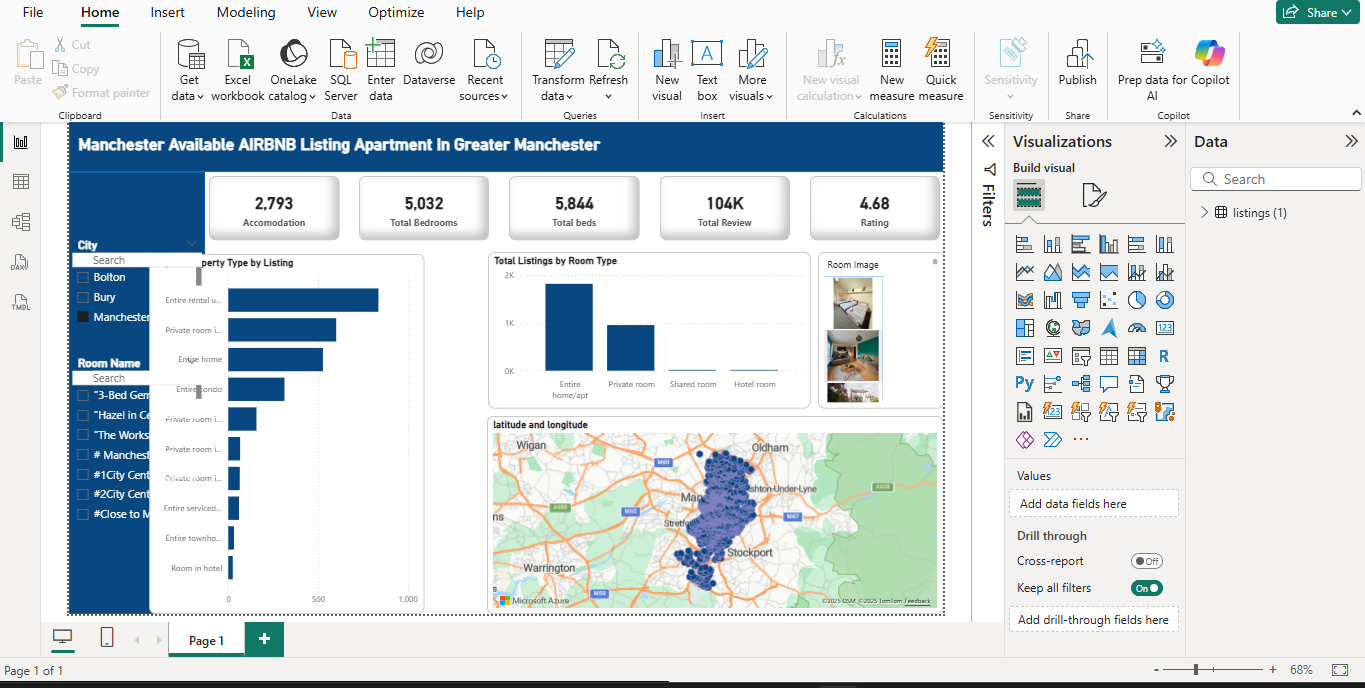

This screenshot's page, from the dashboard's own definition file:
{"tool":"powerbi","page":{"name":"Page 1","canvas":[1280,720],"ordinal":0},"visuals":[{"type":"shape","box":[0,73.2,199.1,646.8],"z":0},{"type":"shape","box":[0,0,1280,73.3],"z":1000},{"type":"clusteredBarChart","title":"Top 10 Property Type by Listing","fields":{"Category":["listings (1).property_type"],"Y":["CountNonNull(listings (1).id)"]},"box":[117.1,192.9,402.9,527.1],"z":2000},{"type":"card","fields":{"Values":["listings (1).Total Bedrooms"]},"box":[424.9,79.5,189.5,94.2],"z":3000},{"type":"card","fields":{"Values":["listings (1).Total beds"]},"box":[644.4,79.5,190.8,94.2],"z":4000},{"type":"slicer","fields":{"Values":["listings (1).name"]},"box":[0,337.5,199.3,254.3],"z":5000},{"type":"card","fields":{"Values":["Avg(listings (1).review_scores_rating)"]},"box":[1084.7,79.5,189.5,94.2],"z":6000},{"type":"card","fields":{"Values":["Sum(listings (1).number_of_reviews)"]},"box":[865.2,79.5,189.5,94.2],"z":7000},{"type":"clusteredColumnChart","title":"Total Listings by Room Type","fields":{"Category":["listings (1).room_type"],"Y":["CountNonNull(listings (1).id)"]},"box":[612.6,190.8,472,228.7],"z":8000},{"type":"slicer","fields":{"Values":["listings (1).neighbourhood_group_cleansed"]},"box":[0,165.1,199.3,140.6],"z":9000},{"type":"azureMap","fields":{"Y":["listings (1).latitude"],"X":["listings (1).longitude"]},"box":[612,430,668,290],"z":10000},{"type":"card","fields":{"Values":["listings (1).Accomodation"]},"box":[204.2,79.5,190.8,94.2],"z":11000},{"type":"pivotTable","fields":{"Rows":["listings (1).picture_url"]},"box":[1095.7,190.8,184.6,228.7],"z":12000},{"type":"card","fields":{"Values":["listings (1).Title"]},"box":[0,0,791.1,63.3],"z":13000}]}

Visuals, with their boxes on the page's 1280x720 design canvas (x1, y1, x2, y2). These are canvas units, not pixel positions in the 1365x688 screenshot, which may show the page scaled, cropped or inside an application window:
shape: x1=0, y1=73, x2=199, y2=720
shape: x1=0, y1=0, x2=1280, y2=73
"Top 10 Property Type by Listing" clusteredBarChart: x1=117, y1=193, x2=520, y2=720
card - listings (1).Total Bedrooms: x1=425, y1=80, x2=614, y2=174
card - listings (1).Total beds: x1=644, y1=80, x2=835, y2=174
slicer - listings (1).name: x1=0, y1=338, x2=199, y2=592
card - Avg(listings (1).review_scores_rating): x1=1085, y1=80, x2=1274, y2=174
card - Sum(listings (1).number_of_reviews): x1=865, y1=80, x2=1055, y2=174
"Total Listings by Room Type" clusteredColumnChart: x1=613, y1=191, x2=1085, y2=420
slicer - listings (1).neighbourhood_group_cleansed: x1=0, y1=165, x2=199, y2=306
azureMap - listings (1).latitude x listings (1).longitude: x1=612, y1=430, x2=1280, y2=720
card - listings (1).Accomodation: x1=204, y1=80, x2=395, y2=174
pivotTable - listings (1).picture_url: x1=1096, y1=191, x2=1280, y2=420
card - listings (1).Title: x1=0, y1=0, x2=791, y2=63
